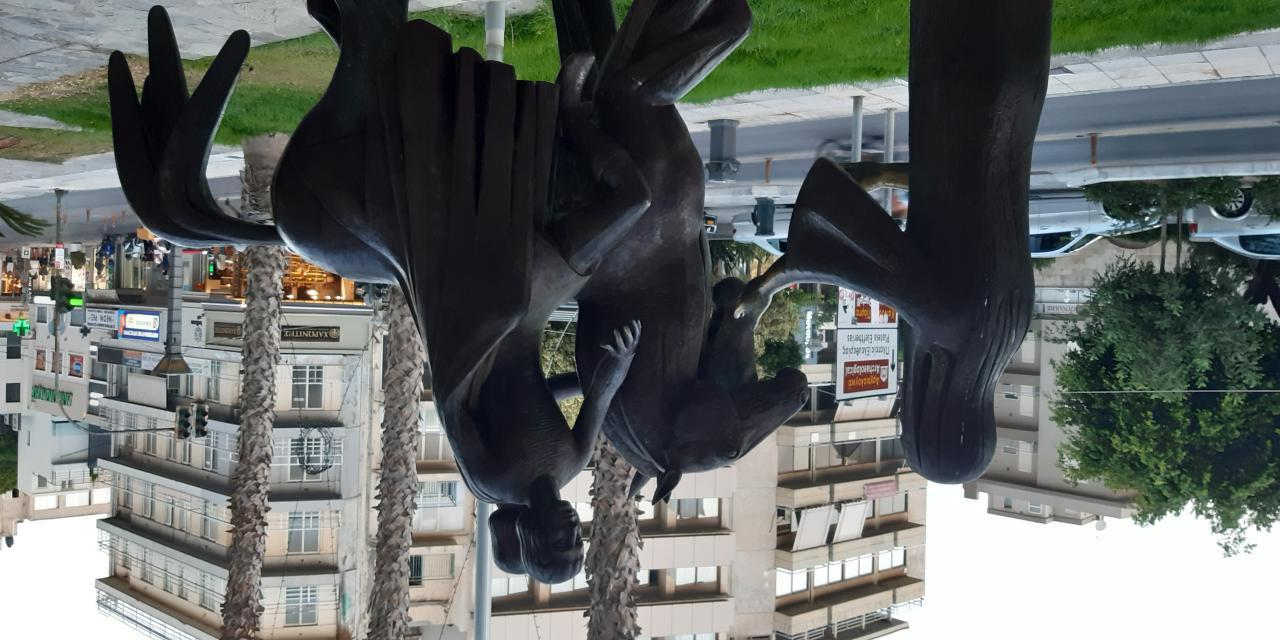Aretousa: (110, 1, 1053, 589)
